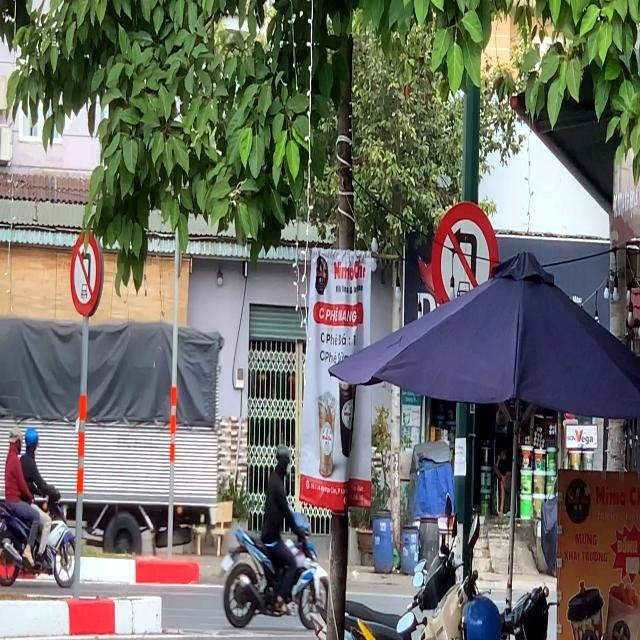bien_cam: (70, 226, 103, 316)
